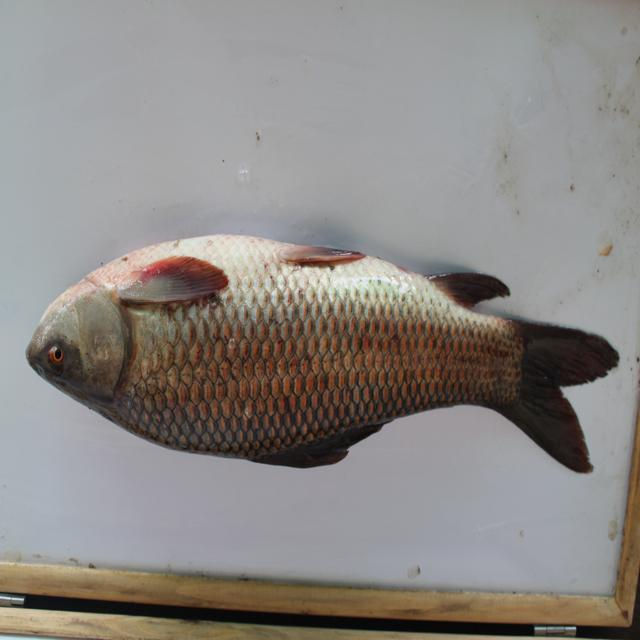Rohu: (34, 214, 606, 481)
